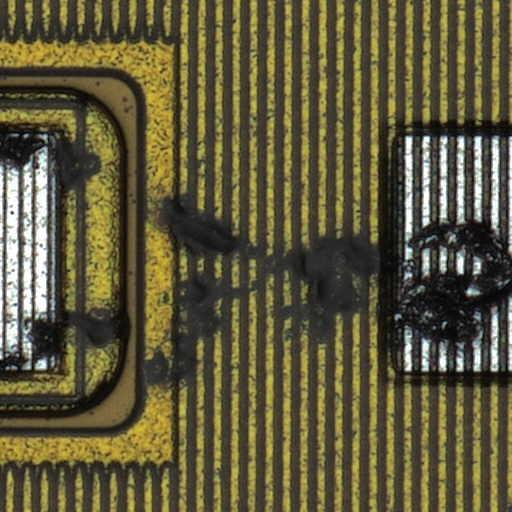SCRATCH: (1, 117, 512, 388)
